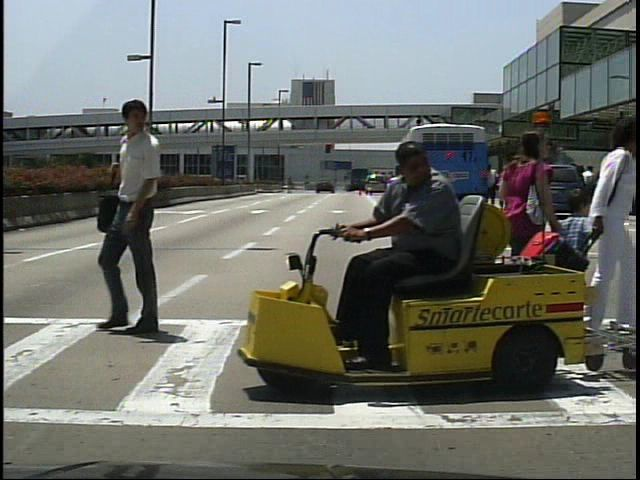person: (330, 141, 480, 373), (102, 100, 174, 337), (570, 113, 640, 351), (491, 125, 561, 356), (560, 187, 602, 327), (581, 164, 601, 216), (483, 162, 503, 211), (502, 165, 520, 218)
